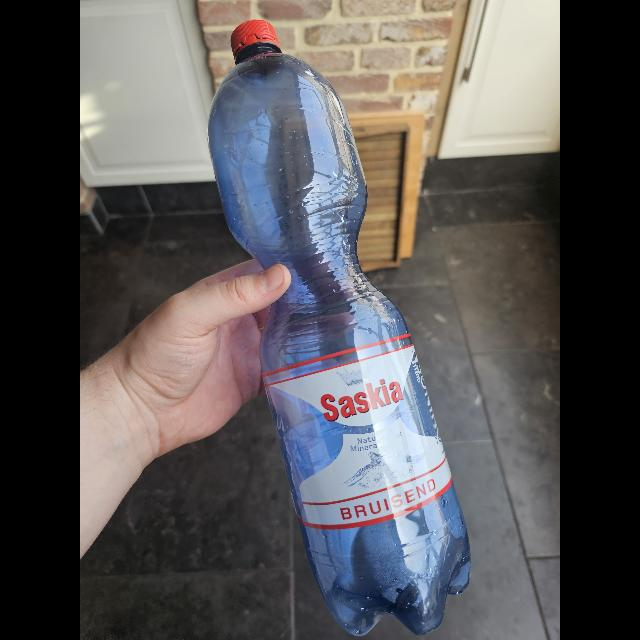Plastic: (205, 20, 472, 640)
